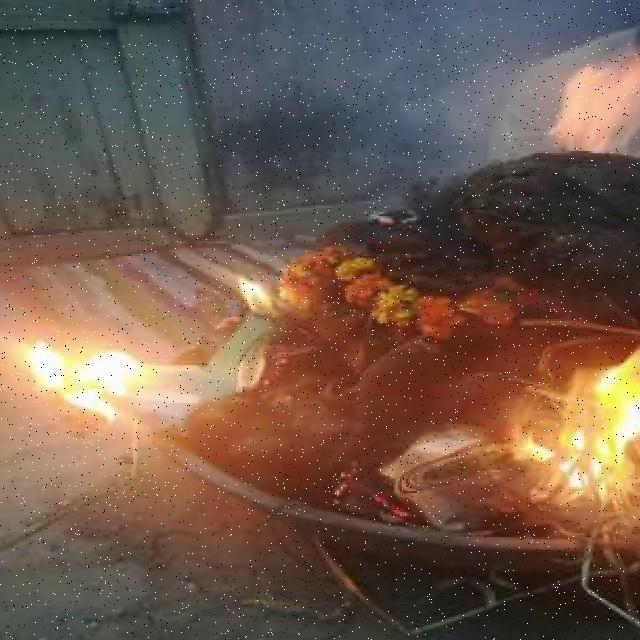fire: (519, 338, 640, 514), (28, 328, 209, 418), (549, 33, 640, 161), (228, 264, 294, 324)
smoke: (381, 0, 549, 168)
